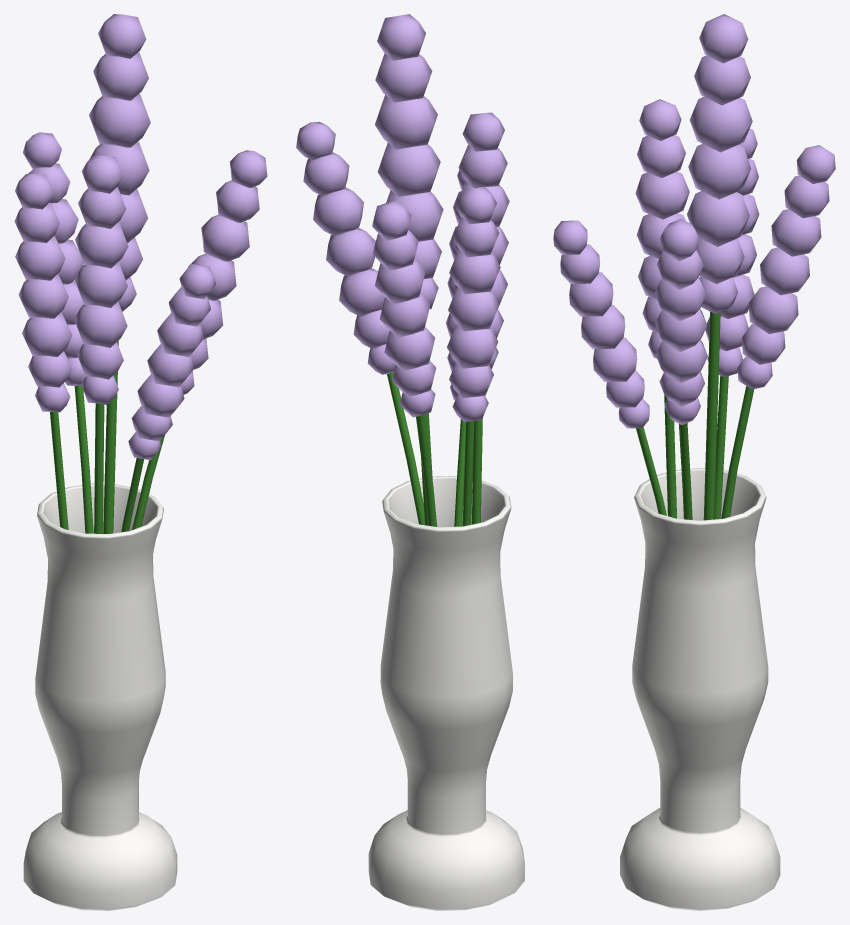
File: Flower_Vase_with_Flowers_4.glb
3 renders of one model, left to right at view 1: azimuth 30°, elevation 25°; view 2: azimuth 150°, elevation 25°; view 3: azimuth 270°, elevation 25°, orthographic. The views are drawn at different scales.
Visible parts, largest first — view 1: Vase_with_Flowers_4; view 2: Vase_with_Flowers_4; view 3: Vase_with_Flowers_4.
Part boxes in pixels (x1,y1,x2,y2): Vase_with_Flowers_4: (14,14,267,910); Vase_with_Flowers_4: (296,14,524,910); Vase_with_Flowers_4: (553,14,835,910).
Bounding box in the file's own units: 0.2531 × 0.9278 × 0.2695.
Materials: 2 (2 with a texture image).
